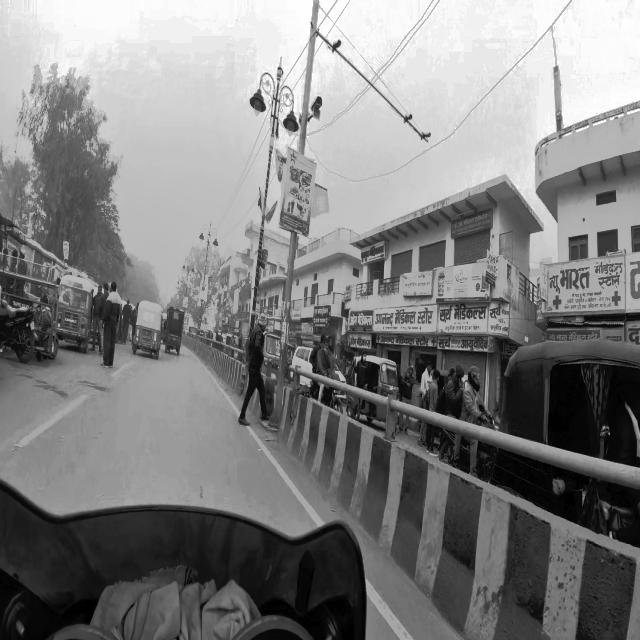Auto-Rickshaw: (495, 328, 640, 557), (350, 344, 404, 434), (56, 268, 100, 362), (131, 296, 165, 364)
Toto: (166, 305, 184, 359)
